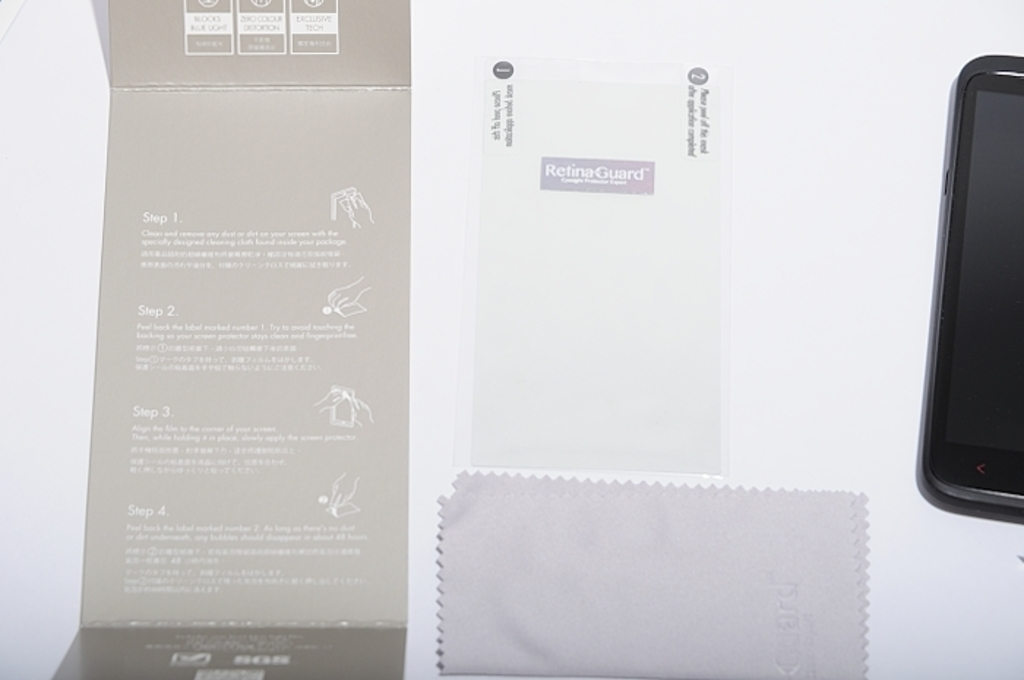Mobile-phone: (913, 53, 1023, 512)
